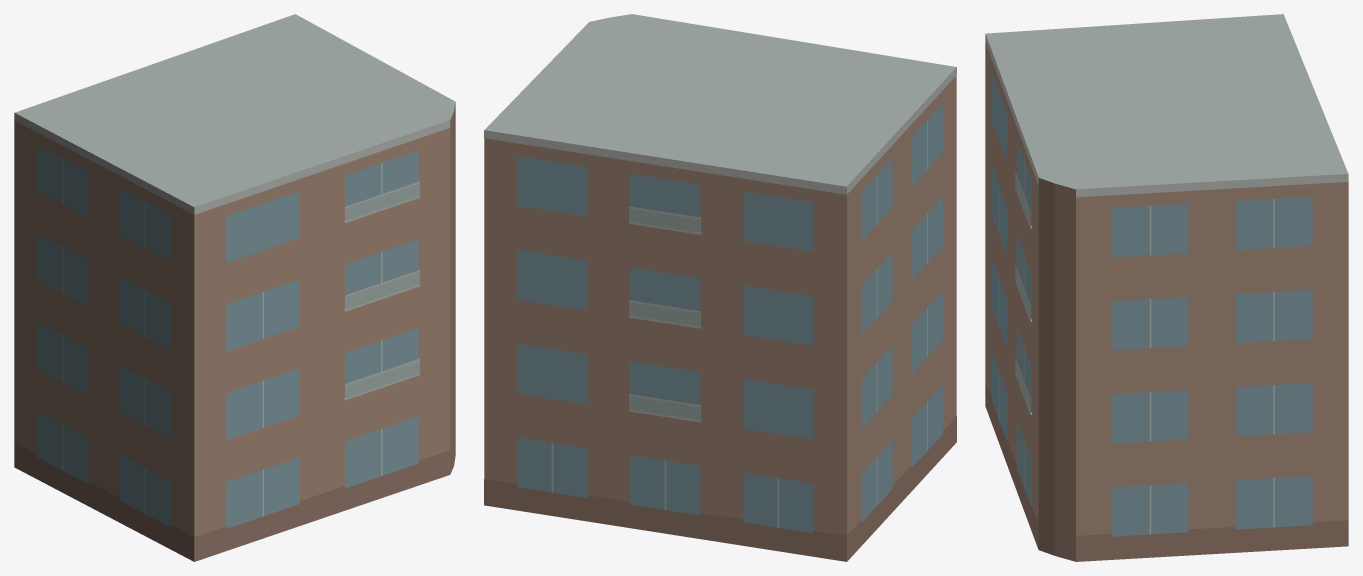
Rendered from survey-upis-32576368.glb.
3 renders of one model, left to right at view 1: azimuth 30°, elevation 25°; view 2: azimuth 150°, elevation 25°; view 3: azimuth 270°, elevation 25°, orthographic. The views are drawn at different scales.
Visible parts, largest first — view 1: survey-upis-32576368.tmp; view 2: survey-upis-32576368.tmp; view 3: survey-upis-32576368.tmp.
Part boxes in pixels (bbox=[...]): survey-upis-32576368.tmp: bbox=[14, 14, 455, 561]; survey-upis-32576368.tmp: bbox=[484, 14, 956, 561]; survey-upis-32576368.tmp: bbox=[985, 14, 1348, 561].
Bounding box in the file's own units: 11.53 × 11.4 × 10.08.
